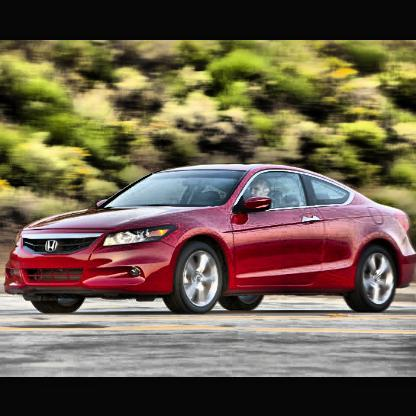Honda Accord Coupe 2012: (6, 166, 416, 314)
